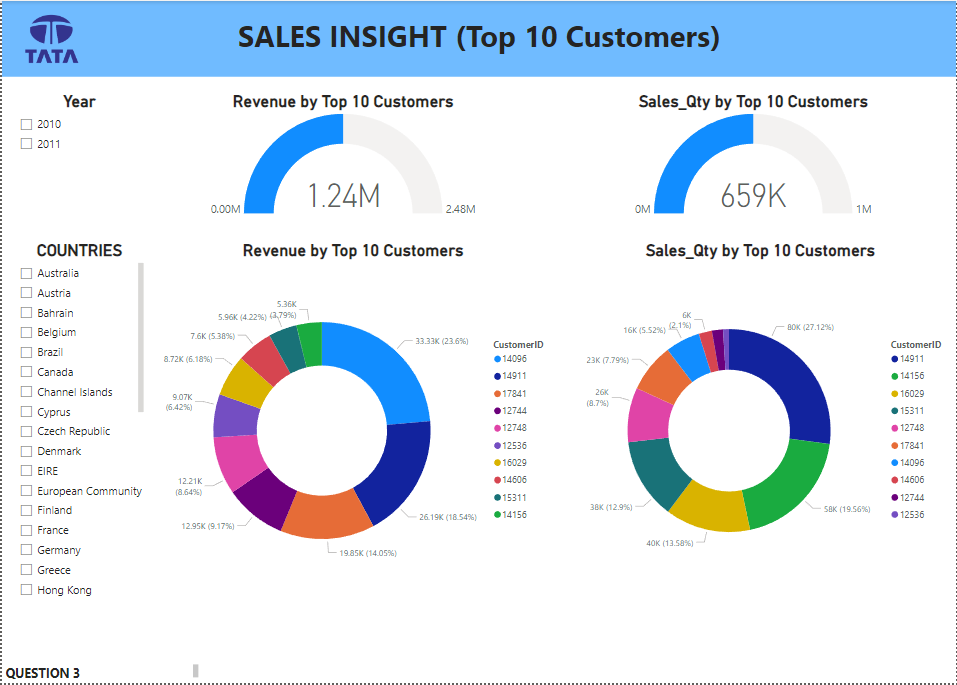

What the dashboard file says about the page in this screenshot:
{"tool":"powerbi","page":{"name":"Question 3","canvas":[1400,1000],"ordinal":2},"visuals":[{"type":"slicer","title":"YEAR","fields":{"Values":["Online Retail.Year"]},"box":[68.7,351.7,182.5,93.8],"z":0},{"type":"slicer","title":"COUNTRIES","fields":{"Values":["Online Retail.Country"]},"box":[15.1,351.7,197.6,529.2],"z":1000},{"type":"textbox","box":[0,0,1400,110.5],"z":2000},{"type":"donutChart","title":"Revenue by Top 10 Customers","fields":{"Category":["Online Retail.CustomerID"],"Y":["Base Measure.Revenue"]},"box":[212.7,351.7,604.5,529.2],"z":3000},{"type":"donutChart","title":"Sales_Qty by Top 10 Customers","fields":{"Category":["Online Retail.CustomerID"],"Y":["Base Measure.Sales_Qty"]},"box":[823.9,351.7,576.1,529.2],"z":4000},{"type":"textbox","box":[0,967.9,293.1,31.8],"z":5000},{"type":"gauge","title":"Revenue by Top 10 Customers","fields":{"Y":["Base Measure.Revenue"]},"box":[251.2,134,499,187.6],"z":6000},{"type":"gauge","title":"Sales_Qty by Top 10 Customers","fields":{"Y":["Base Measure.Sales_Qty"]},"box":[827.3,134,549.3,187.6],"z":7000},{"type":"slicer","title":"Year","fields":{"Values":["Online Retail.Year"]},"box":[15.1,134,197.6,127.3],"z":8000}]}

Visuals, with their boxes in screenshot pixels (x1, y1, x2, y2), scaled from the page's 1400x1000 canvas onto the 957x685 screenshot:
"YEAR" slicer: BBox(47, 241, 172, 305)
"COUNTRIES" slicer: BBox(10, 241, 145, 603)
textbox: BBox(0, 0, 956, 76)
"Revenue by Top 10 Customers" donutChart: BBox(145, 241, 559, 603)
"Sales_Qty by Top 10 Customers" donutChart: BBox(563, 241, 956, 603)
textbox: BBox(0, 663, 200, 684)
"Revenue by Top 10 Customers" gauge: BBox(172, 92, 513, 220)
"Sales_Qty by Top 10 Customers" gauge: BBox(566, 92, 941, 220)
"Year" slicer: BBox(10, 92, 145, 179)
